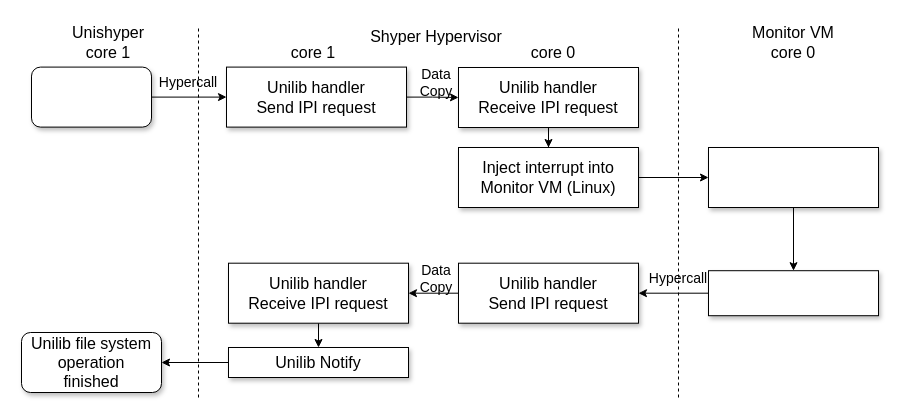
This 902x417 diagram has some shape labels left out. Here are the shapes that lost their labels. From the top down, the centre of each, then its label:
At point (92, 98): "Start Unilib file system operation".
At point (794, 178): "Call libc, process file system operation".
At point (794, 294): "Get result Transfer back".
